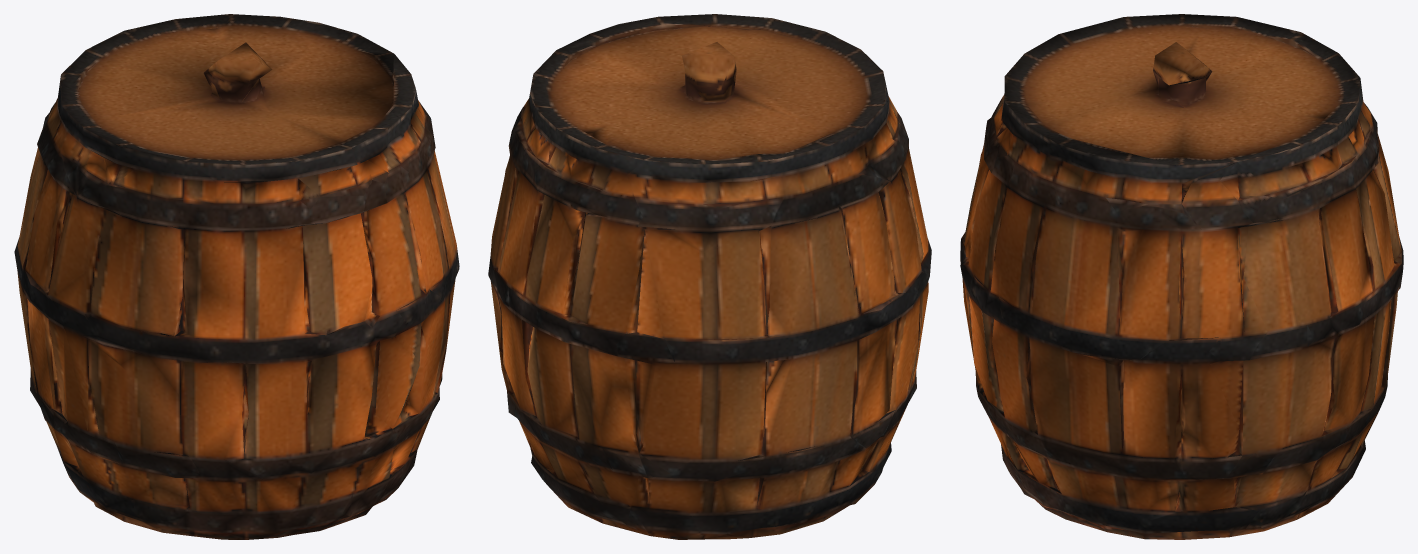
File: barrel.glb
3 renders of one model, left to right at view 1: azimuth 30°, elevation 25°; view 2: azimuth 150°, elevation 25°; view 3: azimuth 270°, elevation 25°, orthographic.
Visible parts, largest first — view 1: Mesh_0.001; view 2: Mesh_0.001; view 3: Mesh_0.001.
Boxes of the visible parts, <box> form: Mesh_0.001: <box>14,14,459,539</box>; Mesh_0.001: <box>488,14,931,539</box>; Mesh_0.001: <box>960,14,1403,539</box>.
Bounding box in the file's own units: 1.82 × 1.9 × 1.83.
Materials: 1 (1 with a texture image).
